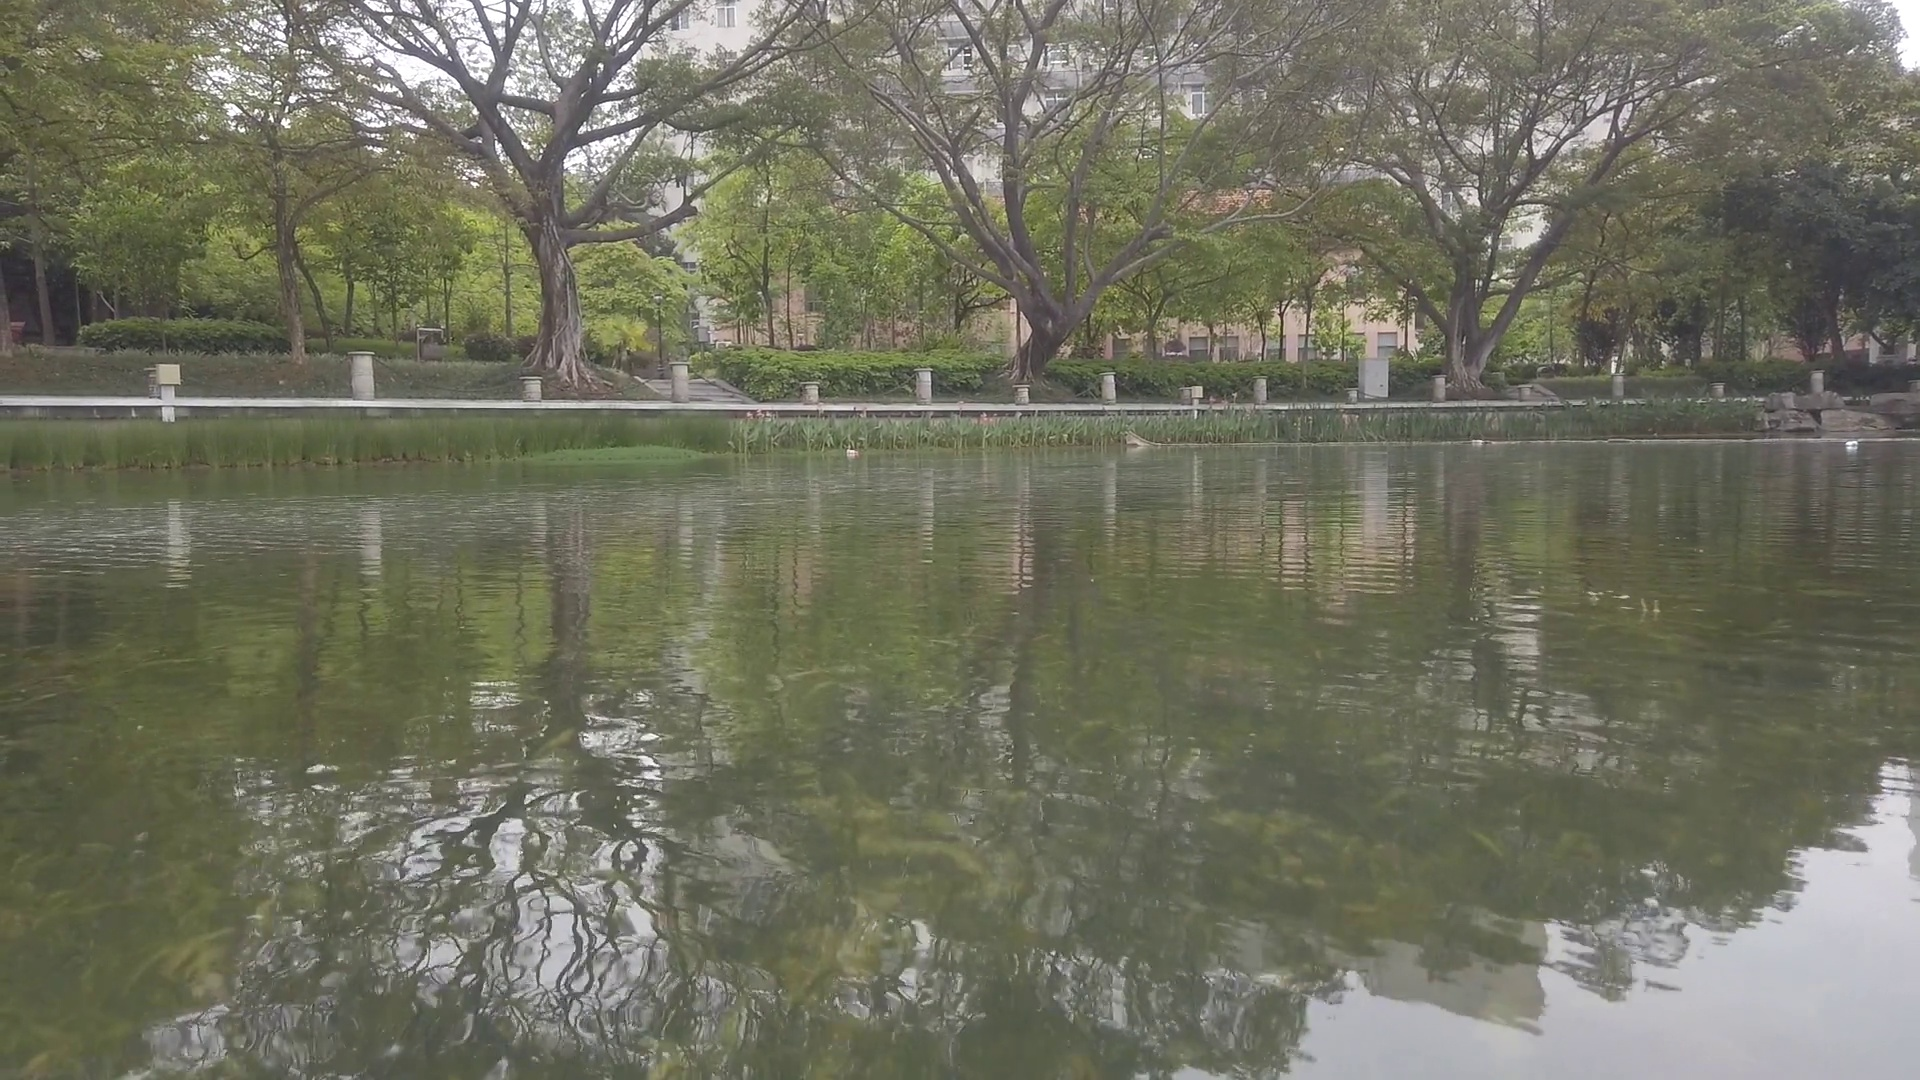bottle: (1845, 439, 1859, 448), (1472, 440, 1487, 447), (844, 448, 857, 454)
